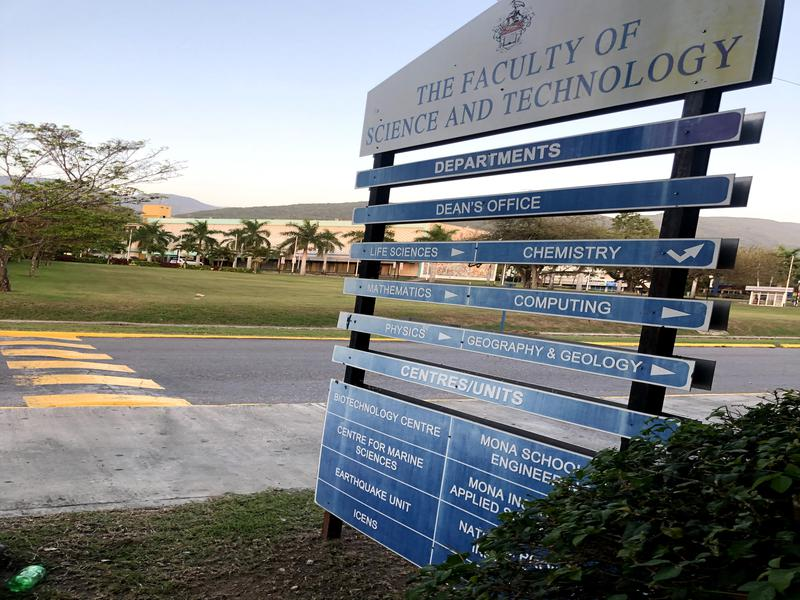18.0055634_-76.7484079_scitechsign: (299, 3, 778, 560)
